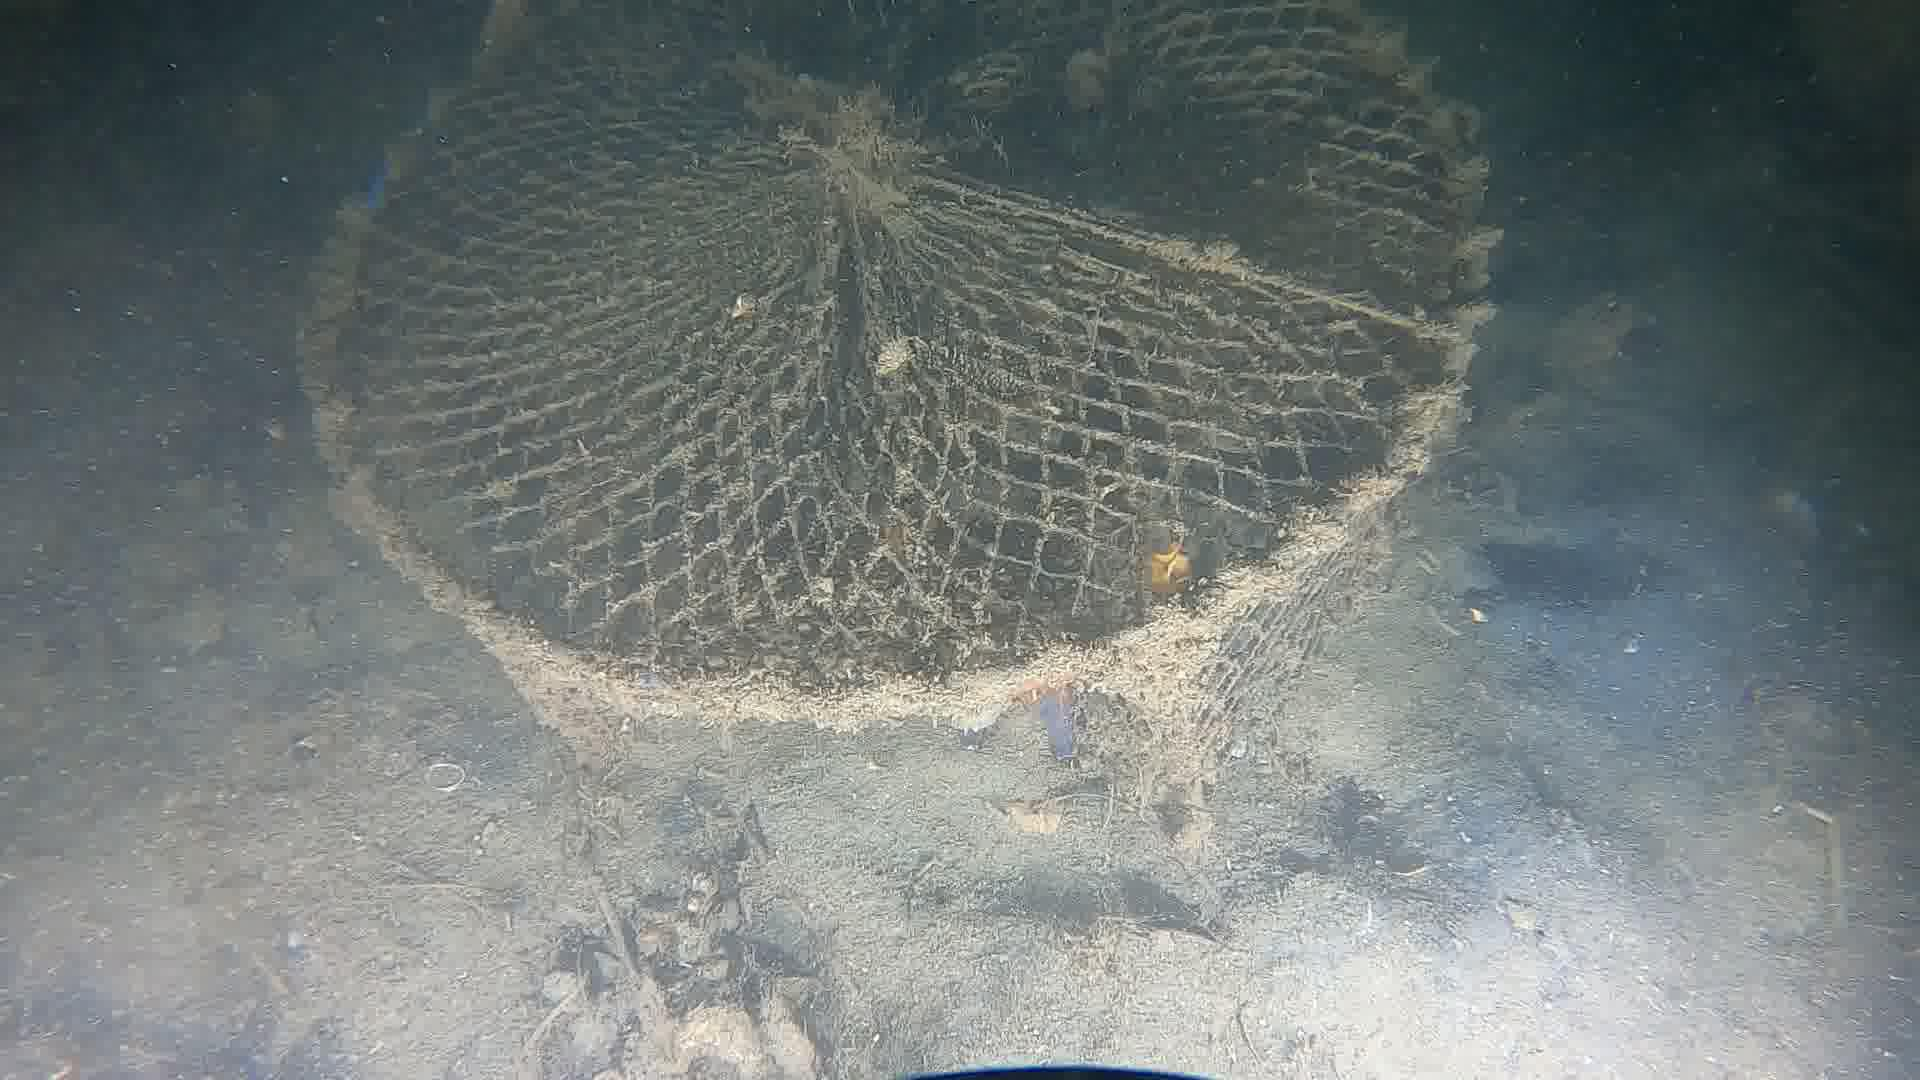circular fish trap: (293, 0, 1499, 789)
